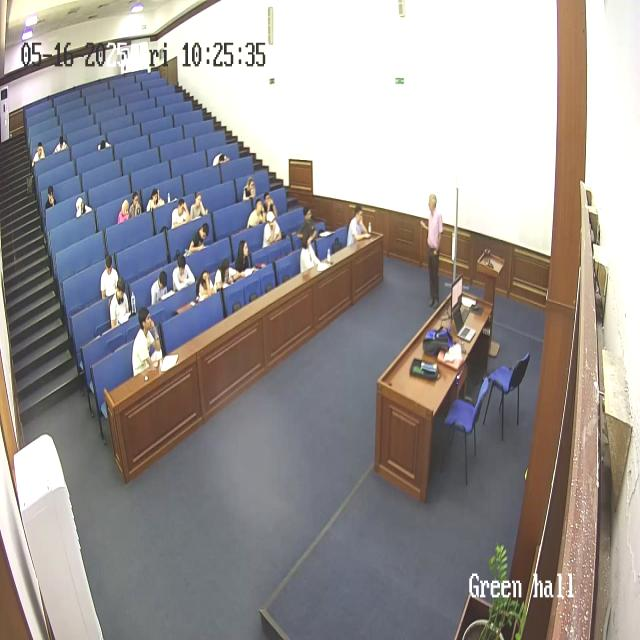person: (419, 192, 443, 310), (131, 308, 163, 376), (108, 277, 132, 329), (347, 204, 373, 247), (299, 225, 321, 275), (232, 238, 256, 279), (100, 253, 121, 299), (171, 254, 195, 294), (150, 270, 174, 305), (300, 204, 320, 246), (214, 258, 238, 292), (185, 222, 211, 252), (262, 211, 283, 247), (194, 268, 216, 302), (170, 198, 190, 230), (247, 198, 267, 228), (190, 191, 208, 221), (262, 191, 278, 221), (146, 186, 164, 212), (128, 190, 144, 219), (74, 196, 92, 218), (30, 142, 46, 166), (117, 197, 131, 224), (242, 177, 256, 200), (53, 135, 69, 154), (44, 186, 56, 209), (212, 152, 230, 167), (96, 139, 111, 157)
